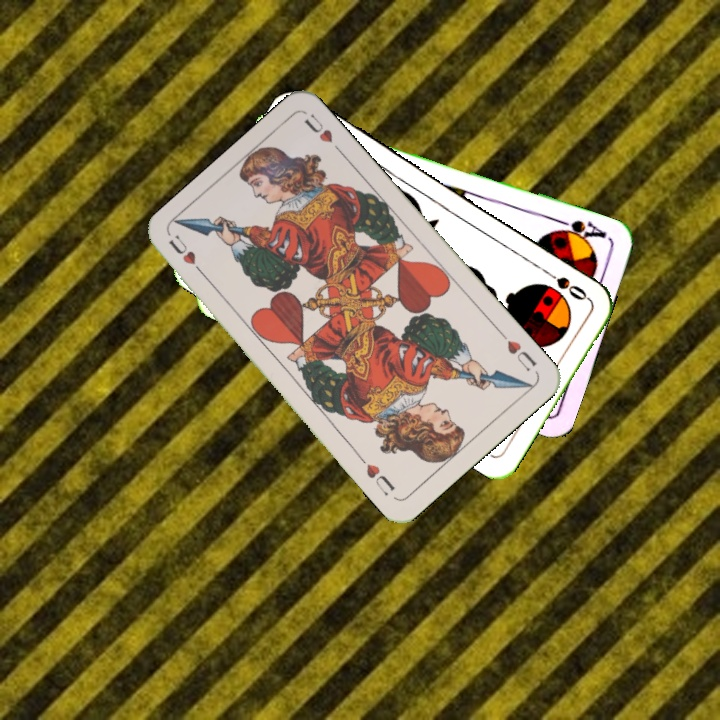HU: (164, 231, 210, 281), (495, 328, 539, 375)
SA: (551, 215, 612, 246)
SO: (539, 264, 591, 304)
